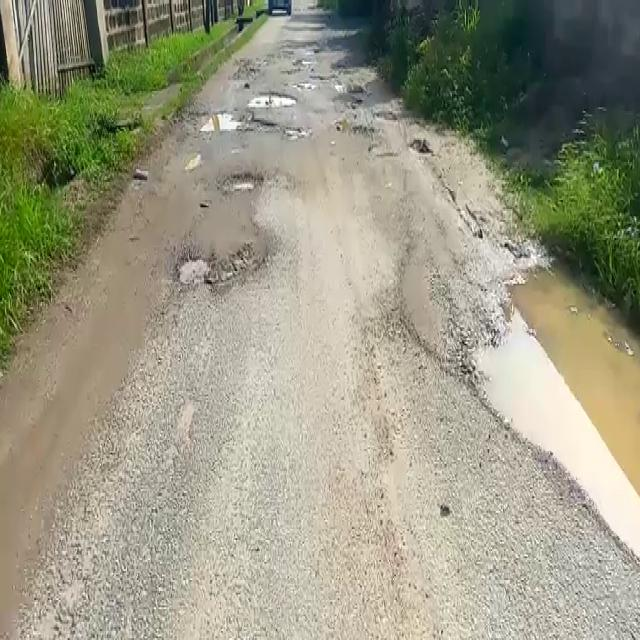Pothole: (463, 261, 639, 563), (173, 247, 256, 289), (186, 110, 245, 136), (216, 170, 261, 193), (247, 91, 298, 107)
